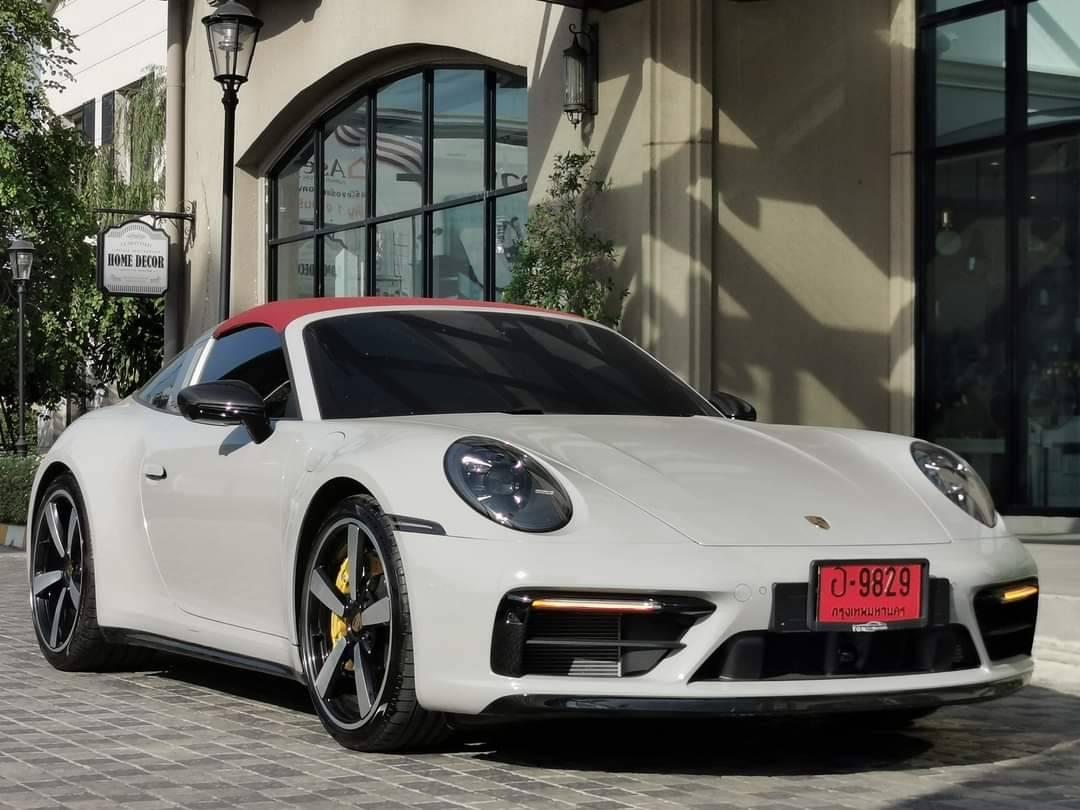license-plate: (804, 553, 938, 647)
